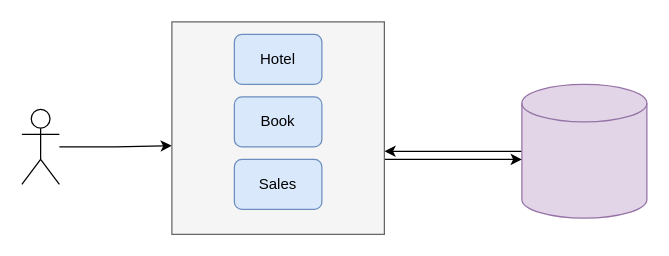
Image size: 669x256. Some labels were removed from this diagram. The shapes that lost their labels are listed below. From the top down, each one's box as (x1, y1, x2, y2) in pixels, then its label:
(21, 108, 59, 184): Actor
(521, 83, 647, 218): Database
